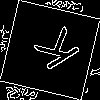K: (25, 25, 82, 78)
